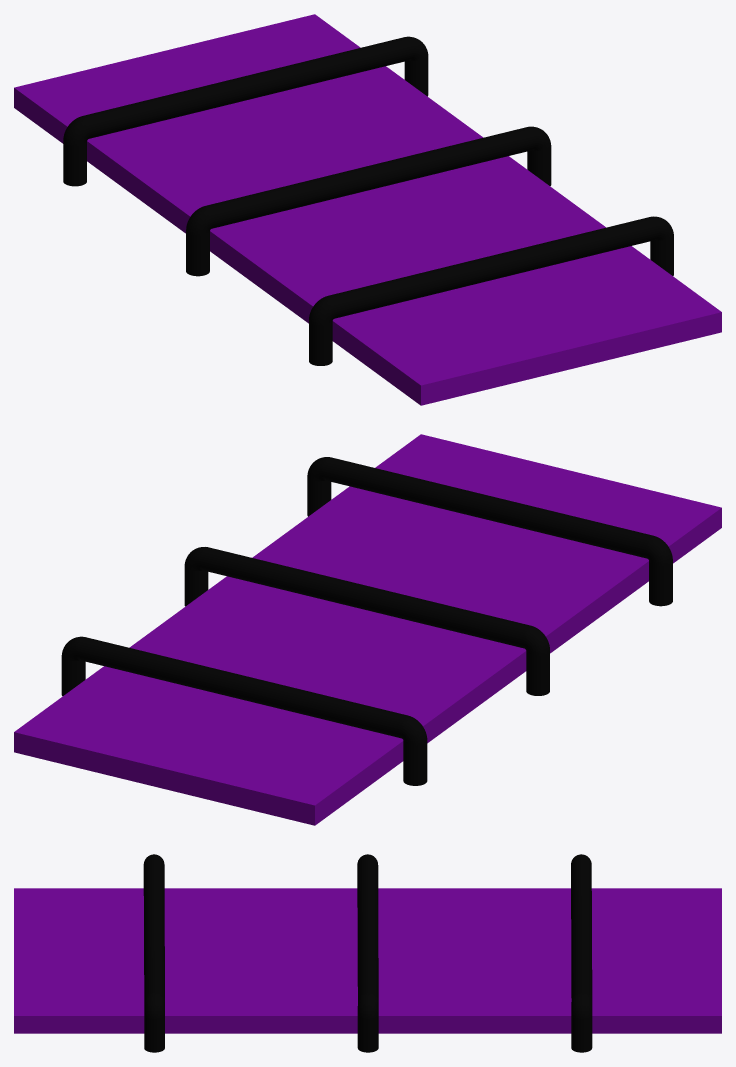
File: BatteryLevel1.fbx
The picture shows the model from 3 angles, top to bottom: view 1: azimuth 30°, elevation 25°; view 2: azimuth 150°, elevation 25°; view 3: azimuth 270°, elevation 25°; orthographic projection. The views are drawn at different scales.
Parts seen in each view (by area): view 1: BatteryLevel1; view 2: BatteryLevel1; view 3: BatteryLevel1.
Part boxes in pixels (x1,y1,x2,y2): BatteryLevel1: (14, 14, 721, 405); BatteryLevel1: (14, 434, 721, 825); BatteryLevel1: (14, 854, 721, 1052).
Bounding box in the file's own units: 51.46 × 8.44 × 100.
